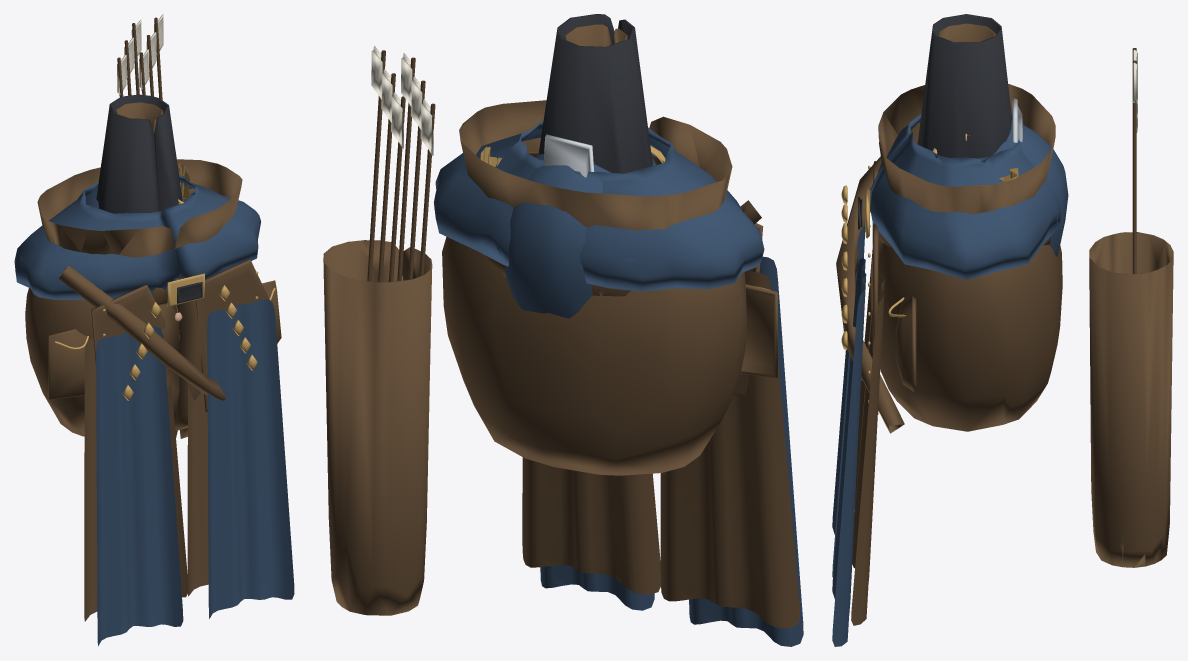
Rendered from bow.glb.
3 renders of one model, left to right at view 1: azimuth 30°, elevation 25°; view 2: azimuth 150°, elevation 25°; view 3: azimuth 270°, elevation 25°, orthographic. The views are drawn at different scales.
Visible parts, largest first — view 1: Ranked split mantle.001, Ranked split mantle, Draped shoulder cowl, Waisted gambeson, Fitted breeches, Fitted coat, Split leather coat, Split leather coat.001, Quiver baldric, Overlapping brigandine breast.001, Belt satchel, Overlapping brigandine breast (+4 smaller); view 2: Fitted coat, Quiver, Split leather coat, Draped shoulder cowl, Split leather coat.001, Waisted gambeson, Fitted breeches, Sculpted hood, Ranked split mantle, Belt satchel, Ranked split mantle.001, Veteran shin guard (+7 smaller); view 3: Quiver, Fitted coat, Draped shoulder cowl, Fitted breeches, Waisted gambeson, Ranked split mantle.001, Split leather coat.001, Quiver baldric, Sculpted hood, Belt satchel.001, Ranked split mantle, Visible arrow shaft.005 (+3 smaller).
Part boxes in pixels (x1=…): Ranked split mantle.001: x1=207, y1=299, x2=294, y2=618; Ranked split mantle: x1=96, y1=326, x2=183, y2=646; Draped shoulder cowl: x1=14, y1=175, x2=260, y2=300; Waisted gambeson: x1=37, y1=159, x2=242, y2=257; Fitted breeches: x1=96, y1=94, x2=182, y2=215; Fitted coat: x1=25, y1=198, x2=251, y2=436; Split leather coat: x1=84, y1=338, x2=188, y2=621; Split leather coat.001: x1=187, y1=382, x2=208, y2=596; Quiver baldric: x1=58, y1=265, x2=226, y2=400; Overlapping brigandine breast.001: x1=196, y1=259, x2=269, y2=412; Belt satchel: x1=48, y1=329, x2=86, y2=399; Overlapping brigandine breast: x1=91, y1=285, x2=165, y2=372; Fitted coat: x1=442, y1=152, x2=746, y2=475; Quiver: x1=323, y1=240, x2=432, y2=615; Split leather coat: x1=660, y1=270, x2=800, y2=628; Draped shoulder cowl: x1=433, y1=121, x2=764, y2=291; Split leather coat.001: x1=522, y1=457, x2=660, y2=594; Waisted gambeson: x1=459, y1=100, x2=732, y2=230; Fitted breeches: x1=538, y1=14, x2=652, y2=173; Sculpted hood: x1=505, y1=154, x2=611, y2=318; Ranked split mantle: x1=689, y1=256, x2=803, y2=646; Belt satchel: x1=741, y1=284, x2=777, y2=377; Ranked split mantle.001: x1=540, y1=565, x2=654, y2=610; Veteran shin guard: x1=543, y1=134, x2=594, y2=177; Quiver: x1=1089, y1=232, x2=1173, y2=567; Fitted coat: x1=870, y1=234, x2=1062, y2=431; Draped shoulder cowl: x1=870, y1=113, x2=1061, y2=279; Fitted breeches: x1=917, y1=14, x2=1012, y2=158; Waisted gambeson: x1=878, y1=84, x2=1055, y2=213; Ranked split mantle.001: x1=832, y1=258, x2=866, y2=646; Split leather coat.001: x1=851, y1=272, x2=884, y2=625; Quiver baldric: x1=836, y1=156, x2=904, y2=433; Sculpted hood: x1=993, y1=121, x2=1068, y2=256; Belt satchel.001: x1=895, y1=296, x2=916, y2=391; Ranked split mantle: x1=832, y1=220, x2=865, y2=577; Visible arrow shaft.005: x1=1132, y1=60, x2=1136, y2=273.
Size of the model in its own units: 0.5031 by 0.9603 by 0.508.
